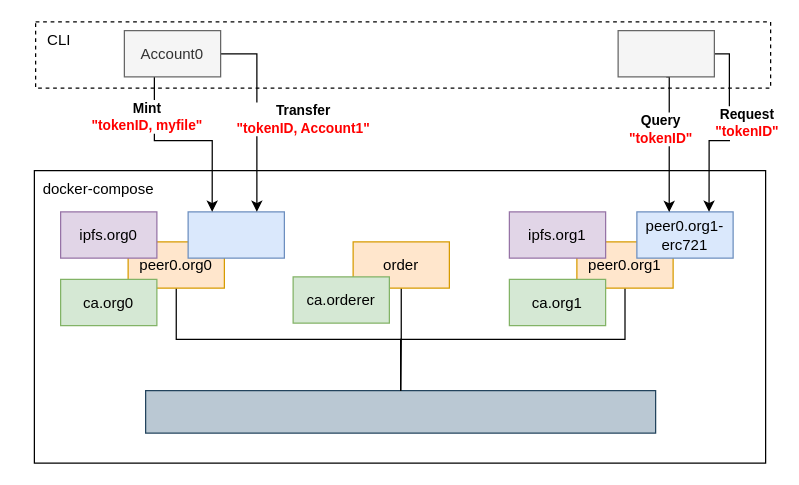
This 799x485 diagram has some shape labels left out. The shapes that lost their labels are listed below. From the top down, each one's centre as x and y in pixels, then its label:
the point at 665,53: Account1
the point at 235,234: peer0.org0-erc721
the point at 400,411: bridge
